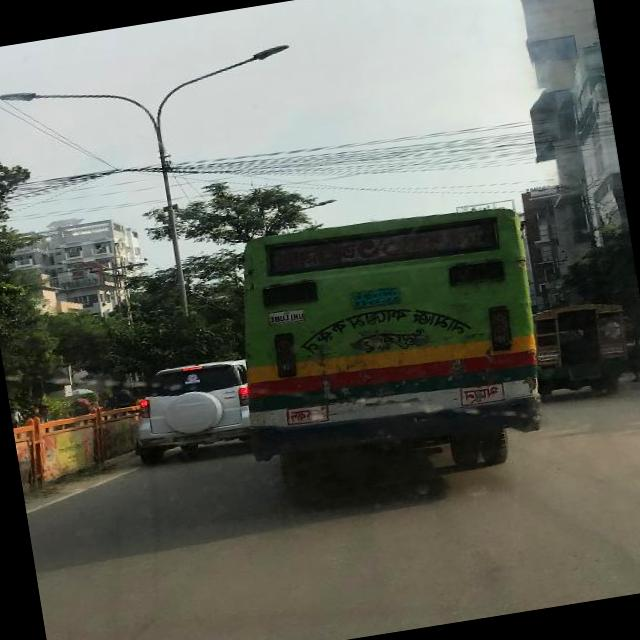bus: (228, 207, 556, 502), (530, 295, 638, 402)
car: (131, 356, 258, 466)
motorcycle: (70, 395, 94, 415), (116, 387, 136, 407)
